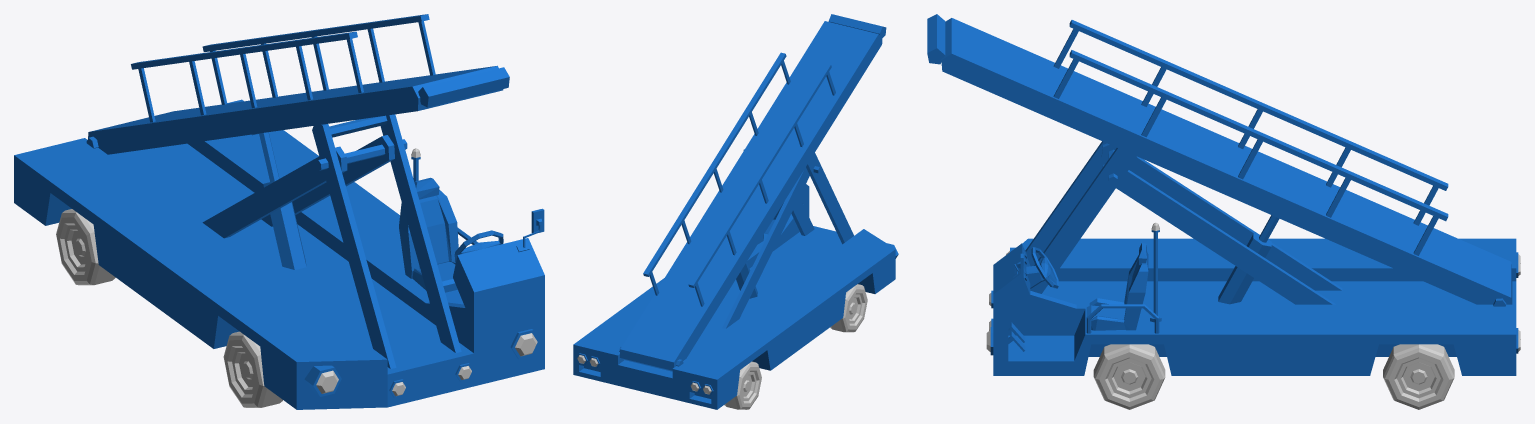
File: SM_gangway_1.fbx
3 renders of one model, left to right at view 1: azimuth 30°, elevation 25°; view 2: azimuth 150°, elevation 25°; view 3: azimuth 270°, elevation 25°, orthographic. The views are drawn at different scales.
Visible parts, largest first — view 1: Symmetry_1, Cylinder_7, Cylinder_4; view 2: Symmetry_1, Cylinder_7, Cylinder_4; view 3: Symmetry_1, Cylinder_1, Cylinder_7.
Boxes of the visible parts, left/top/right/bottom form: Symmetry_1: left=14, top=14, right=544, bottom=409; Cylinder_7: left=56, top=209, right=115, bottom=285; Cylinder_4: left=223, top=331, right=282, bottom=407; Symmetry_1: left=573, top=14, right=898, bottom=409; Cylinder_7: left=724, top=361, right=761, bottom=409; Cylinder_4: left=830, top=284, right=867, bottom=332; Symmetry_1: left=927, top=14, right=1520, bottom=375; Cylinder_1: left=1093, top=344, right=1165, bottom=409; Cylinder_7: left=1383, top=344, right=1454, bottom=409.
Bounding box in the file's own units: 2769 × 4212 × 6781.
